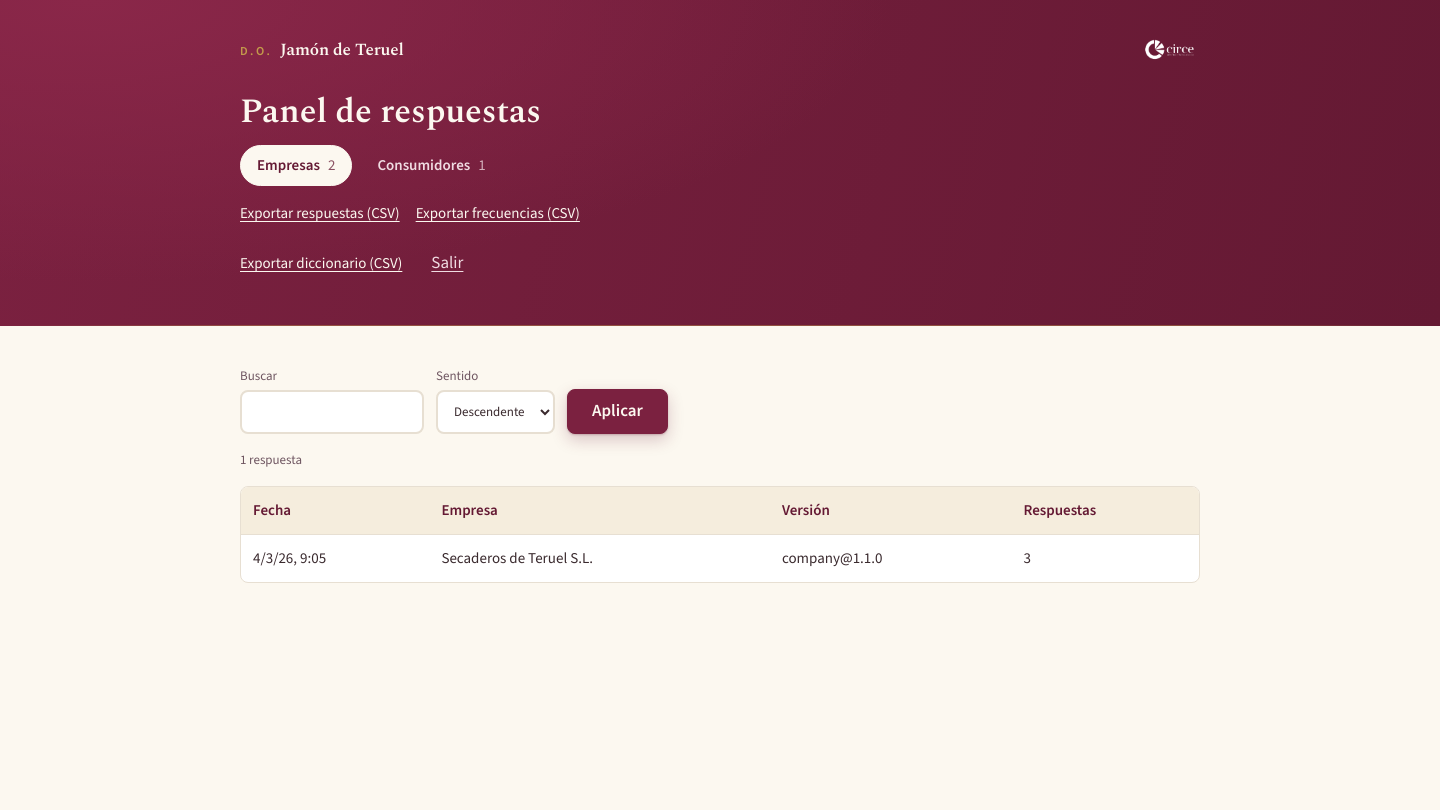
Test: the admin panel › names the company in the detail view
This screenshot has width=1440, height=810.
Click the button "4/3/26, 9:05 Secaderos de Teruel S.L. company@1.1.0 3".
click(290, 558)  # box [241,535,1199,582]
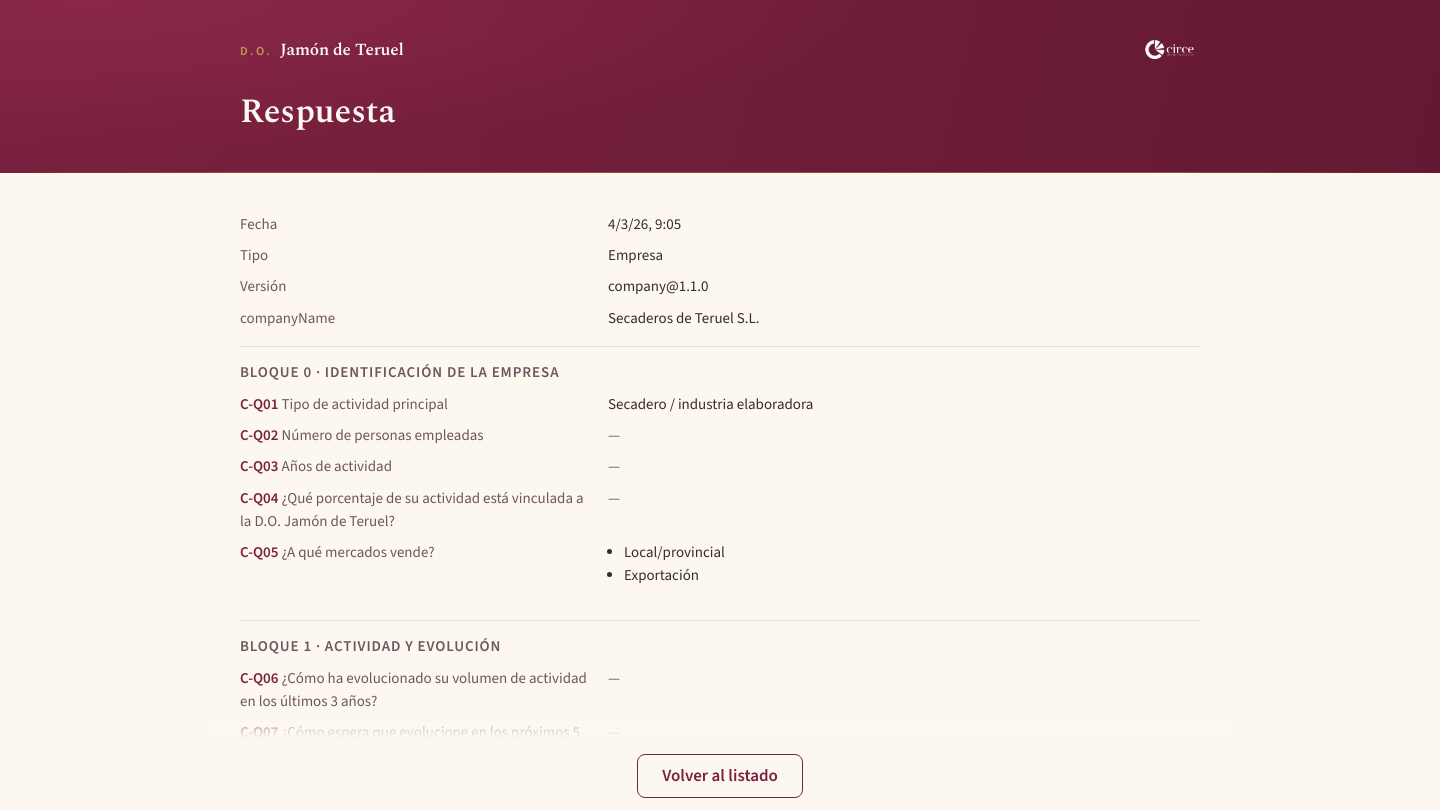
Expected: the text "Secaderos de Teruel S.L." is shown, [608,308,760,328]
Result: the text "companyName" is shown at [240,308,335,328]
